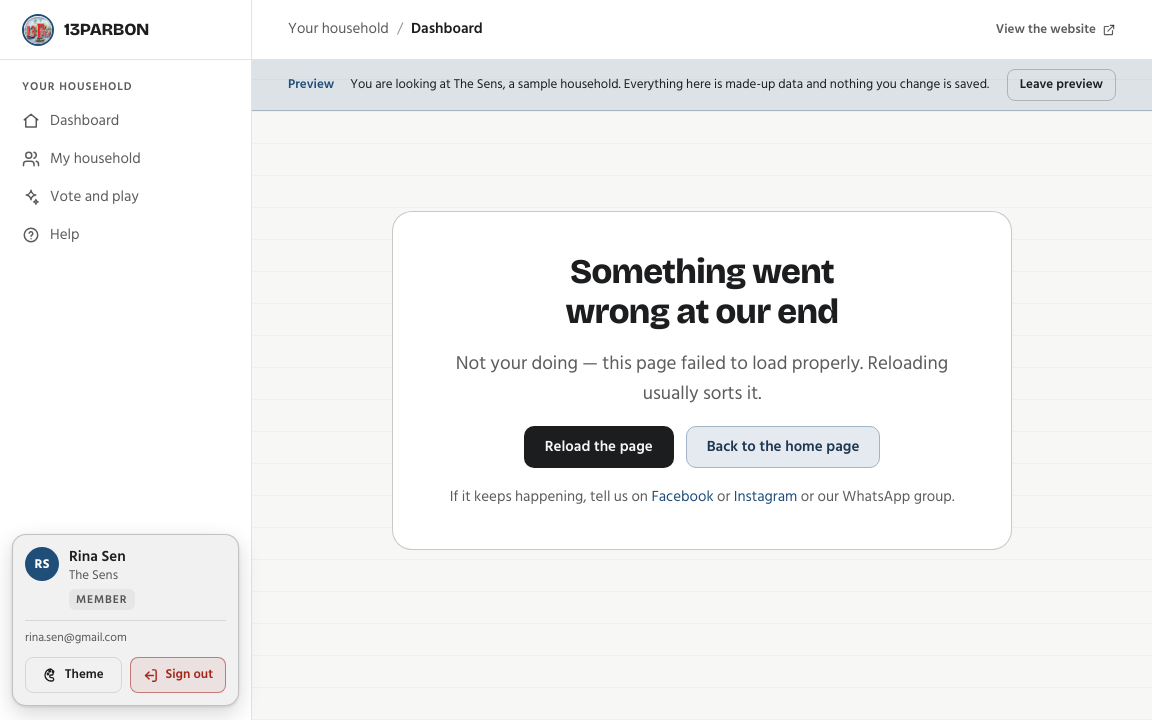
Test: a portal screen that breaks › keeps the menu, says what happened, and clears once you move on
Expected: the heading "Something went wrong at our end" is shown, [566,251,838,332]
Click the link to "/portal/help": [51, 234] box [22,222,80,247]
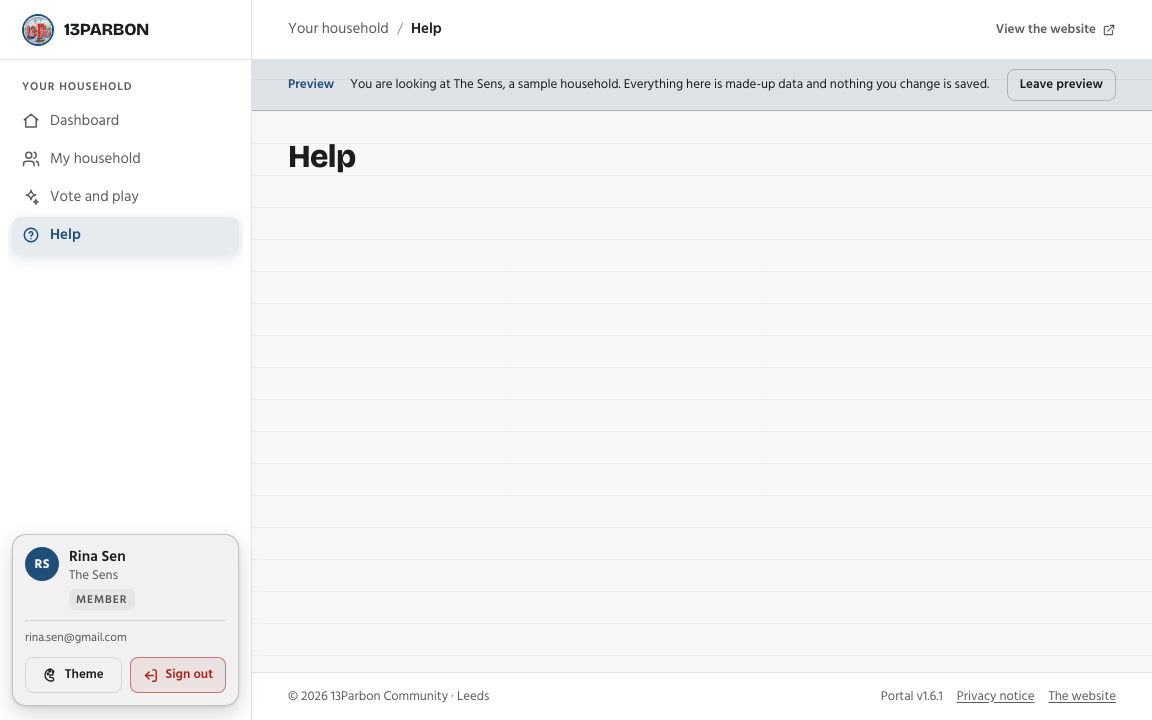
Now the heading "Help" is shown, box [288,137,356,176]
Now the heading "Something went wrong at our end" is gone
